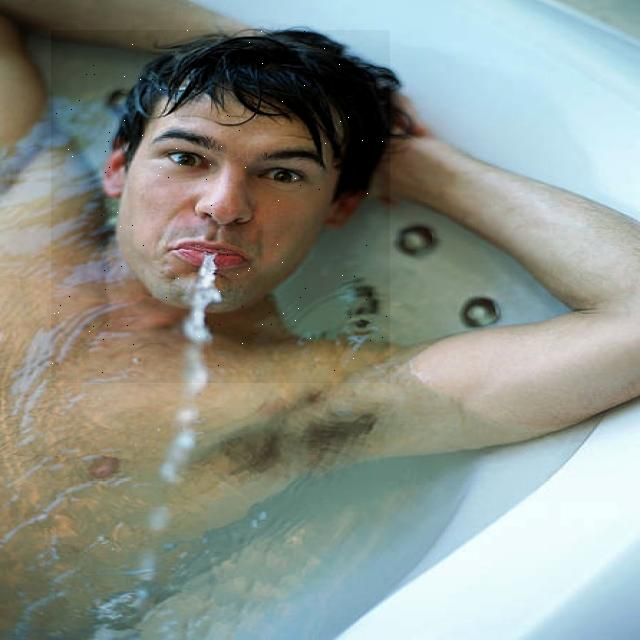Spitting: (51, 30, 390, 383)
